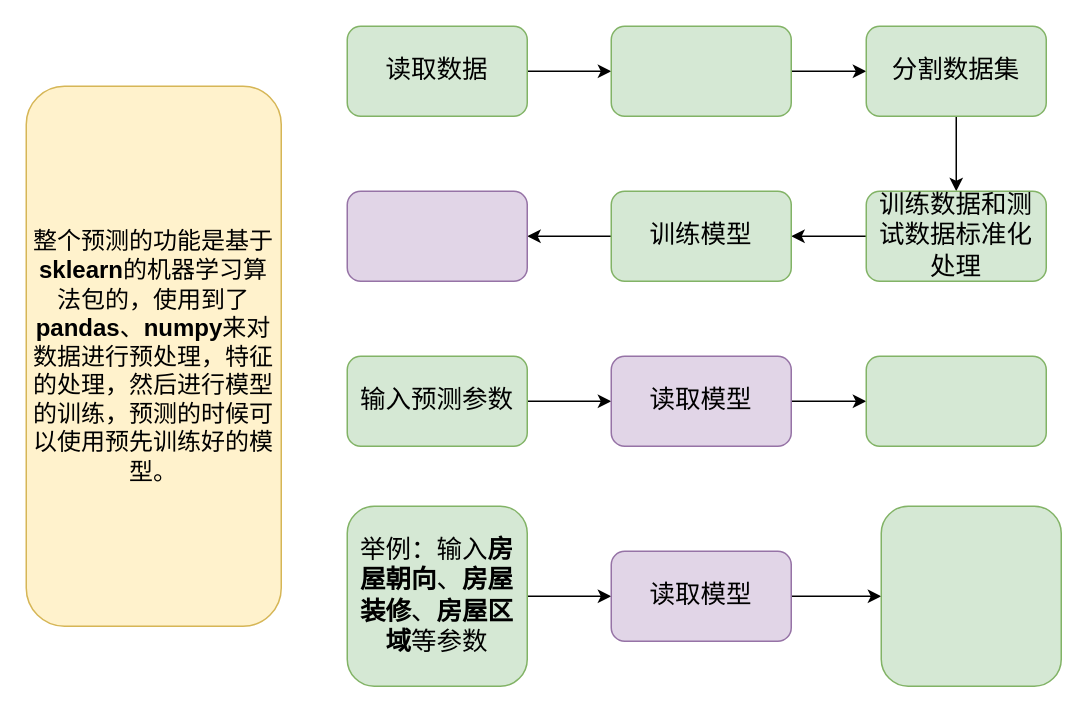
Image size: 1088x713. Some labels were removed from this diagram. The shapes that lost their labels are listed below. From the top down, each one's centre as x and y in pixels, then its label:
At [700,70]: "准备数据和特征数据量化".
At [436,235]: "保存模型".
At [955,400]: "给出预测结果".
At [970,595]: "预测二手房价格为 108万".
